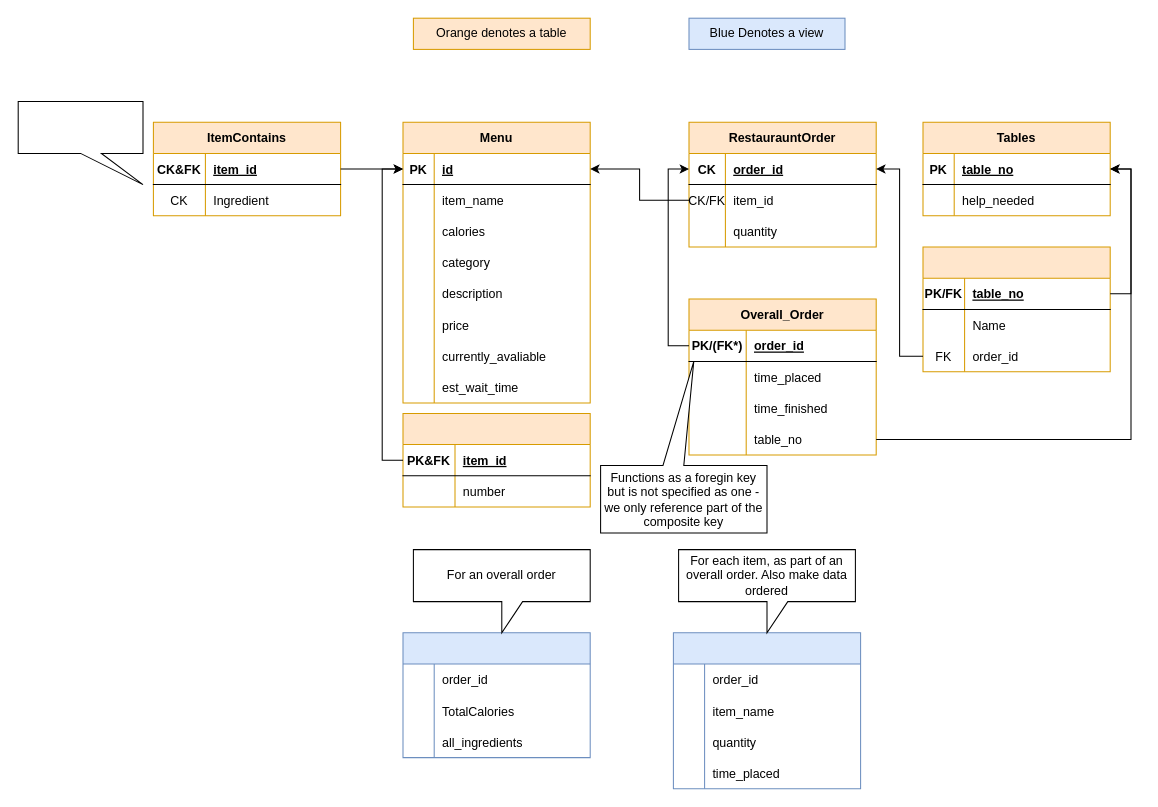
Some shapes in this 1158 by 807 pixel diagram are drawn without their labels. Each missing label, with the box of its shape:
Customer: (922, 246, 1110, 372)
item_id and ingredient form a composite key: (17, 100, 143, 185)
OrderNutritionalInfo: (402, 632, 590, 758)
OrderToMake: (672, 632, 861, 789)
Stock: (402, 412, 590, 507)
